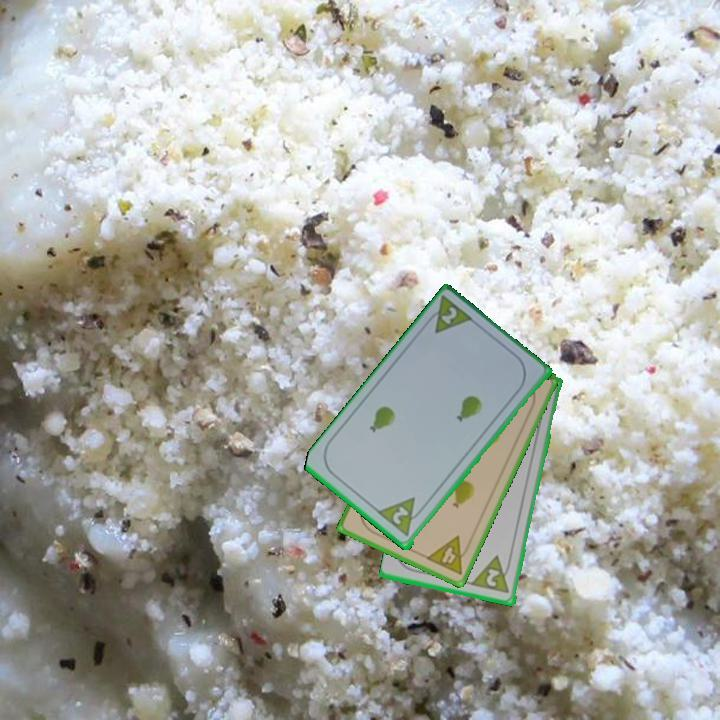2p: (469, 553, 515, 597), (389, 503, 412, 528), (437, 303, 460, 328)
4p: (422, 532, 474, 578)
